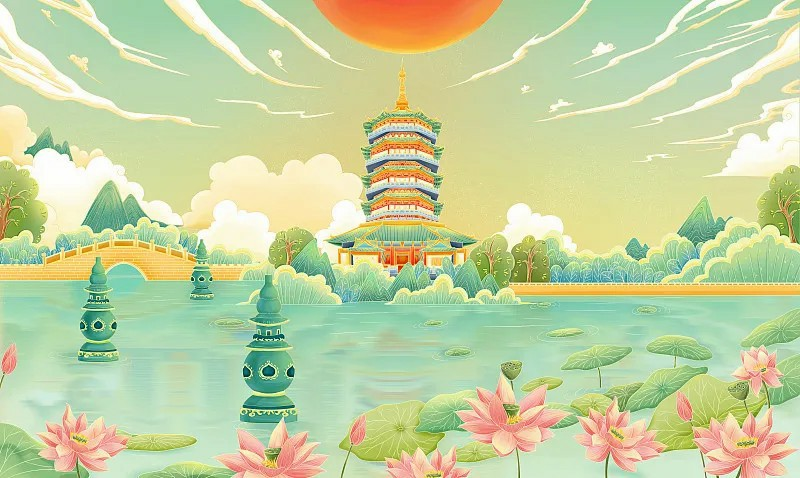Leifeng: (324, 57, 479, 269)
